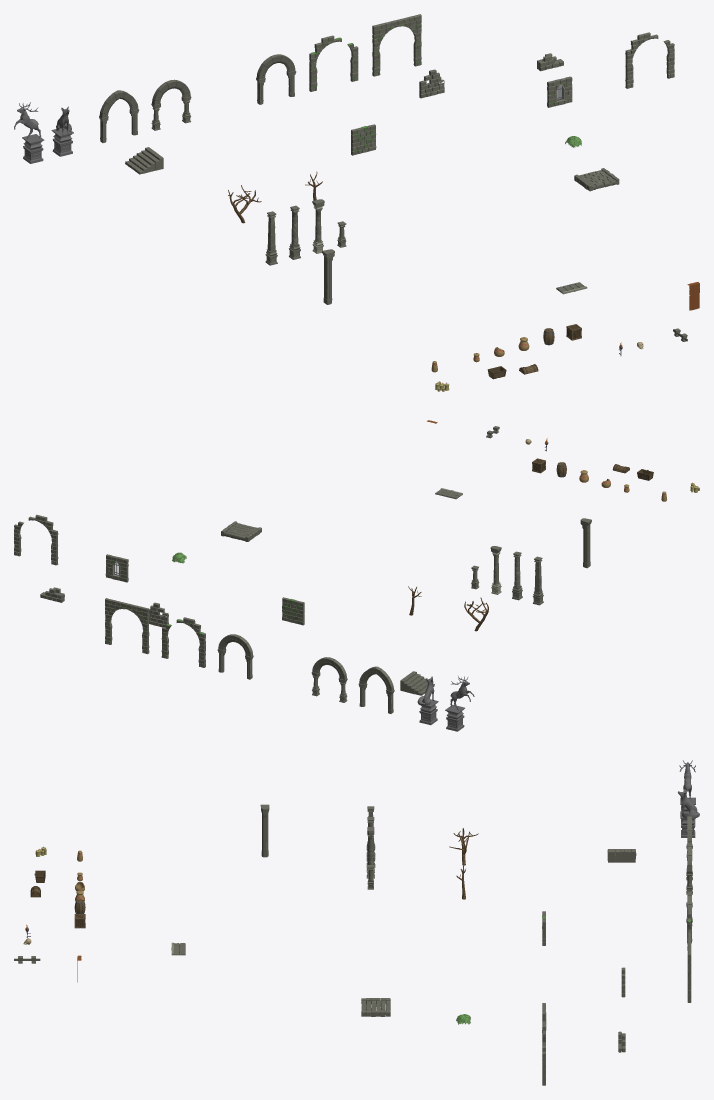
Rendered from ruins.glb.
3 renders of one model, top to bottom at view 1: azimuth 30°, elevation 25°; view 2: azimuth 150°, elevation 25°; view 3: azimuth 270°, elevation 25°, orthographic. The views are drawn at different scales.
Visible parts, largest first — view 1: Wall_ArchRound_Overgrown, Wall_ArchRound_Broken, Wall_ArchRound_Overgrown_Broken, Statue_Stag, Arch_Gothic, Arch_Round_RoundColumn, Arch_Round, Statue_Fox, Stairs, Window_Bars_Overgrown, Wall_Overgrown, BridgeSection; view 2: Wall_ArchRound_Overgrown, Statue_Stag, Wall_ArchRound_Broken, Wall_ArchRound_Overgrown_Broken, Arch_Round_RoundColumn, Arch_Gothic, Arch_Round, Statue_Fox, Window_Bars_Overgrown, Wall_Overgrown, BridgeSection, Stairs; view 3: BridgeSection, Statue_Fox.
Part boxes in pixels (x1,y1,x2,y2): Wall_ArchRound_Overgrown: (372, 14, 421, 76); Wall_ArchRound_Broken: (625, 32, 674, 88); Wall_ArchRound_Overgrown_Broken: (309, 35, 358, 91); Statue_Stag: (14, 102, 44, 163); Arch_Gothic: (99, 90, 139, 142); Arch_Round_RoundColumn: (151, 79, 191, 130); Arch_Round: (256, 54, 296, 104); Statue_Fox: (51, 106, 73, 156); Stairs: (125, 147, 163, 174); Window_Bars_Overgrown: (547, 76, 572, 107); Wall_Overgrown: (351, 124, 376, 155); BridgeSection: (574, 168, 619, 191); Wall_ArchRound_Overgrown: (105, 598, 149, 654); Statue_Stag: (445, 676, 474, 731); Wall_ArchRound_Broken: (14, 514, 58, 565); Wall_ArchRound_Overgrown_Broken: (161, 617, 205, 667); Arch_Round_RoundColumn: (311, 657, 347, 702); Arch_Gothic: (358, 666, 394, 713); Arch_Round: (217, 634, 253, 679); Statue_Fox: (417, 676, 438, 725); Window_Bars_Overgrown: (105, 554, 128, 582); Wall_Overgrown: (282, 597, 304, 625); BridgeSection: (221, 521, 261, 541); Stairs: (400, 671, 434, 695); BridgeSection: (361, 998, 390, 1016); Statue_Fox: (678, 789, 699, 837).
Size of the model in its own units: 49.07 by 4.93 by 51.9.
19 materials, 3 textured.
